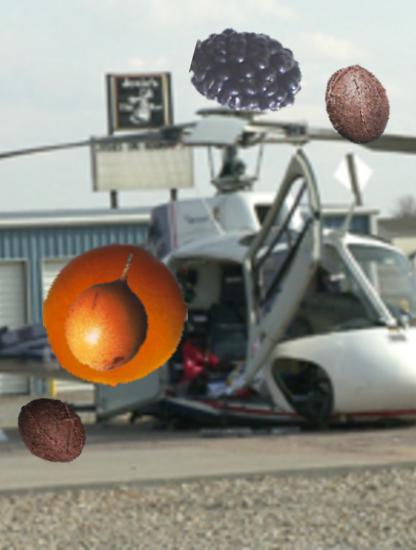Cocos: (317, 64, 400, 147), (14, 393, 89, 468)
Granadilla: (51, 250, 176, 375)
Grapefruit: (43, 242, 188, 387)
Mulberry: (191, 15, 304, 128)
